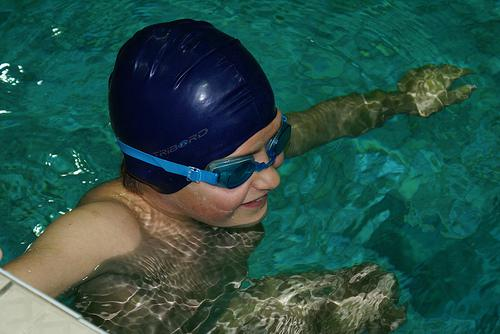human: (2, 16, 475, 294)
